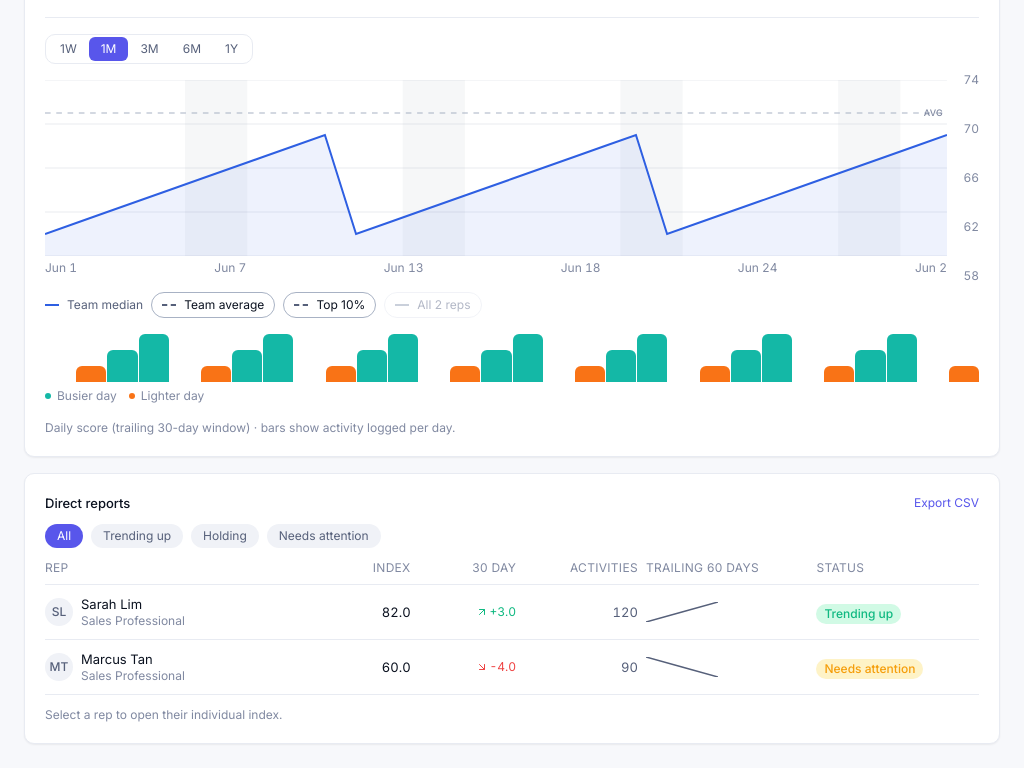
PersistenceIndexReport › Logging Coverage gate (selected-rep drill-down) › suppresses the score and hides the breakdown when the selected rep's coverage is below 50%
(page scrolled)
What coordinates should you click on to do the following:
click the text "Sarah Lim"
I would click on:
 (112, 604)
Its box is [81, 596, 142, 612].
(page scrolled)
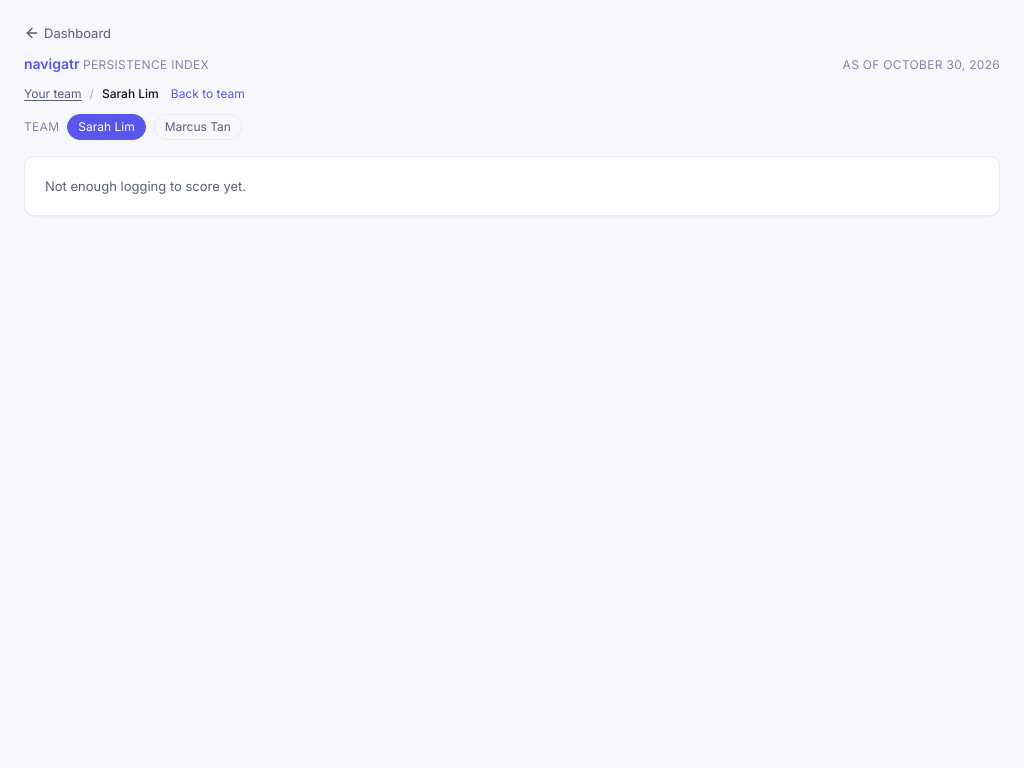
Now the text "Not enough logging to score yet." is shown, box [45, 178, 246, 194]
Now the button "Back to team" is shown, box [171, 86, 245, 102]
Now the text "Sarah Lim" is shown, box [102, 86, 159, 102]
